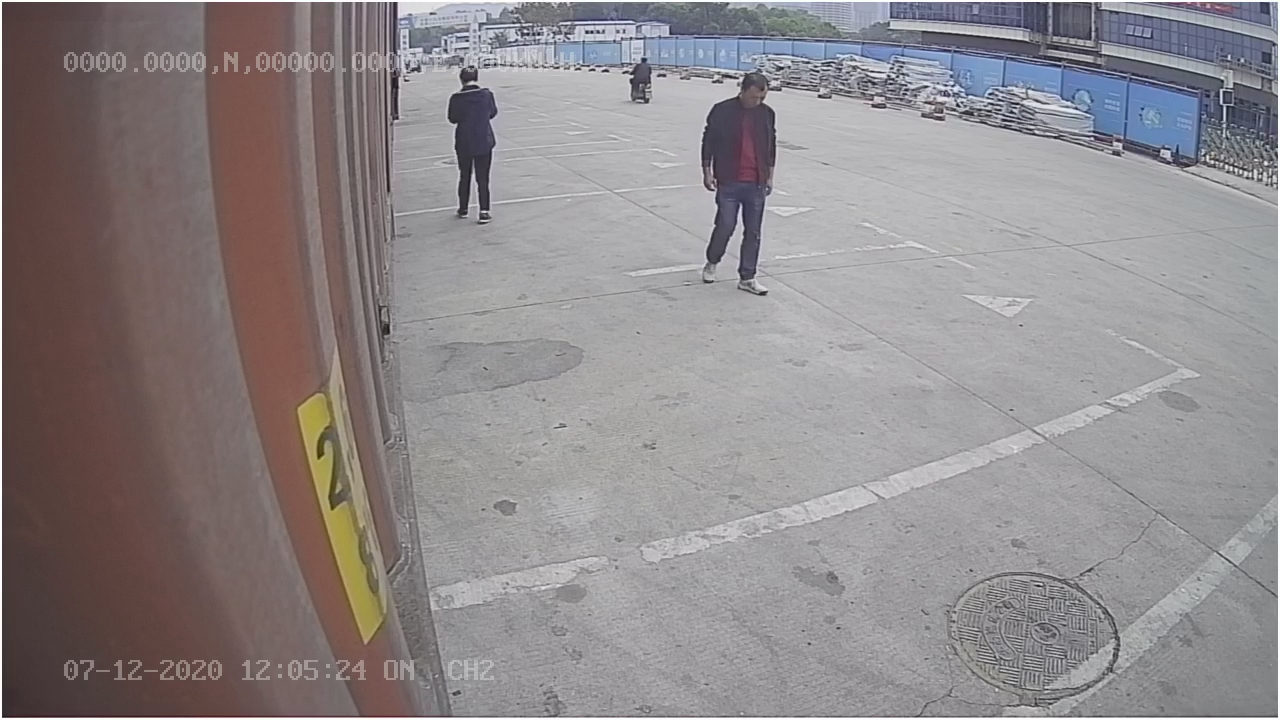person: (699, 70, 777, 301)
